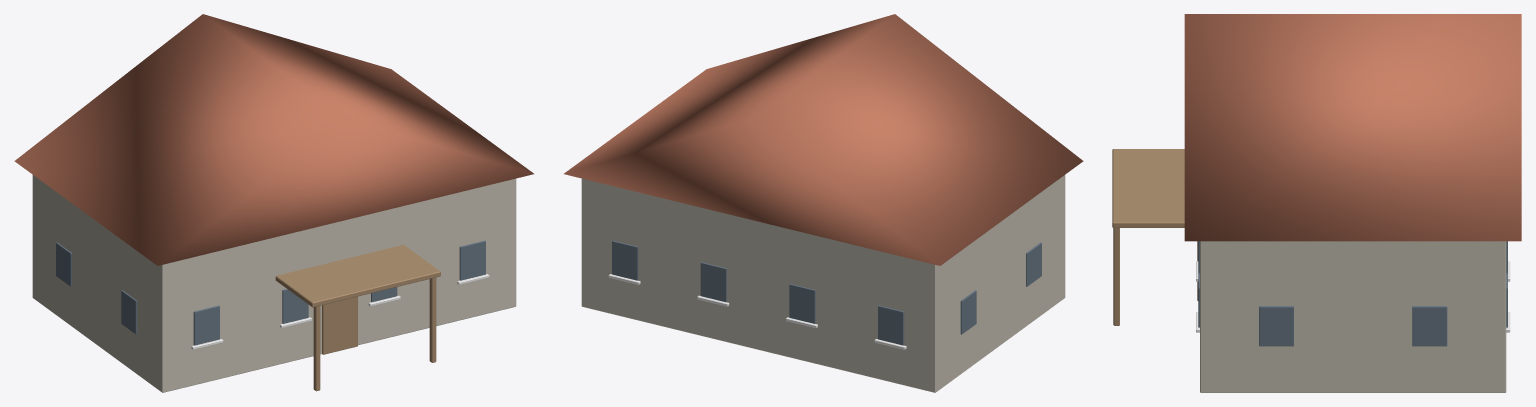
The model's file is house_farm.glb.
3 renders of one model, left to right at view 1: azimuth 30°, elevation 25°; view 2: azimuth 150°, elevation 25°; view 3: azimuth 270°, elevation 25°, orthographic. The views are drawn at different scales.
Visible parts, largest first — view 1: house_farm; view 2: house_farm; view 3: house_farm.
Part boxes in pixels (box(x1,y1,x2,y2)): house_farm: box(14, 14, 533, 392); house_farm: box(564, 14, 1083, 392); house_farm: box(1112, 14, 1521, 392).
Bounding box in the file's own units: 11.7 × 7 × 9.35.
